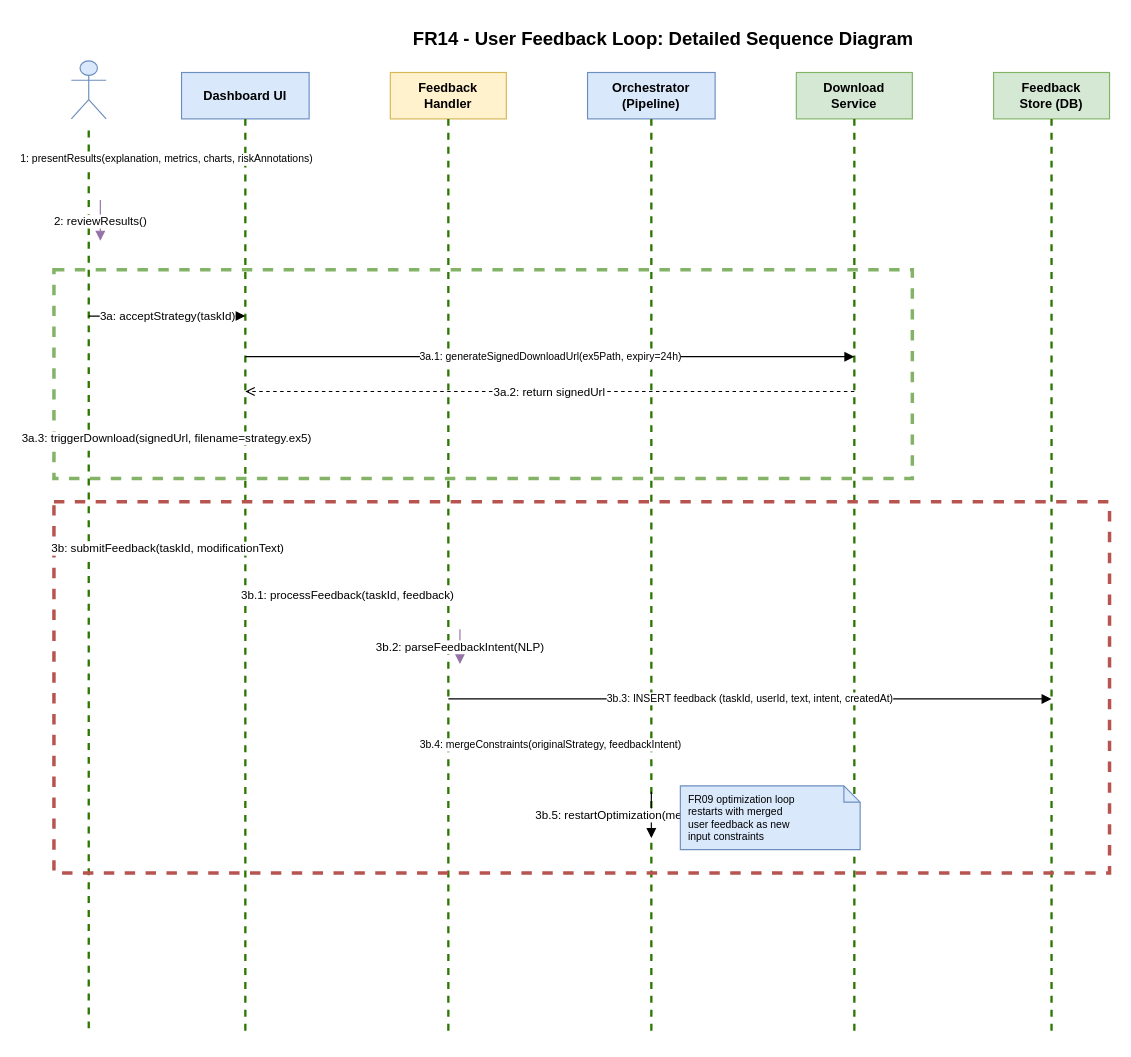
This 1131x1057 diagram has some shape labels left out. Here are the shapes that lost their labels. From the top down, the box of each, then its label:
(70, 60, 106, 119): Trader (Actor)
(52, 267, 913, 480): alt [Trader ACCEPTS strategy]
(52, 499, 1111, 874): alt [Trader REQUESTS MODIFICATION]
